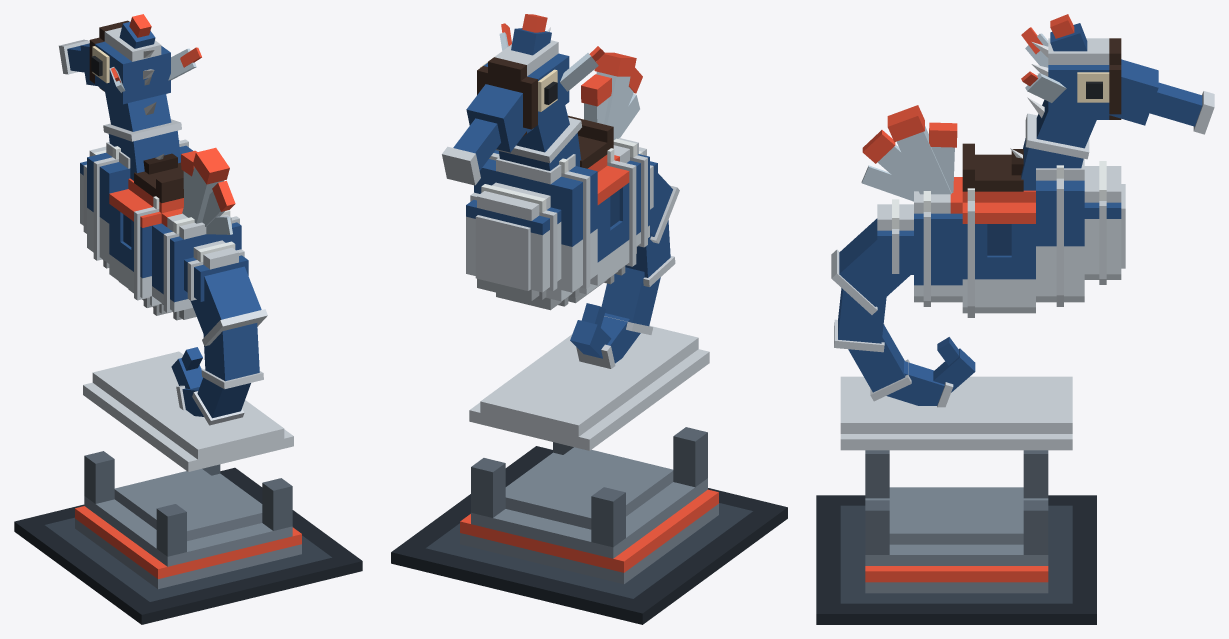
The model's file is SeahorseTrainer6.obj.
3 renders of one model, left to right at view 1: azimuth 30°, elevation 25°; view 2: azimuth 150°, elevation 25°; view 3: azimuth 270°, elevation 25°, orthographic. The views are drawn at different scales.
Parts seen in each view (by area): view 1: Stand, Body, Plate, Head, Fin, T1, T2, T3, T5, T4; view 2: Stand, Body, Plate, Head, Fin, T3, T4, T2, T1, T5; view 3: Stand, Body, Plate, Head, Fin, T1, T2, T3, T4, T5.
Boxes of the visible parts, x1,y1,x2,y2 form: Stand: (14, 451, 362, 624); Body: (80, 76, 248, 320); Plate: (83, 351, 293, 471); Head: (59, 14, 201, 104); Fin: (181, 147, 235, 234); T1: (190, 266, 267, 346); T2: (201, 323, 263, 389); T3: (192, 377, 250, 425); T5: (171, 358, 202, 388); T4: (176, 385, 203, 416); Stand: (391, 427, 787, 624); Body: (466, 105, 657, 310); Plate: (469, 325, 709, 450); Head: (442, 14, 604, 185); Fin: (581, 52, 642, 139); T3: (601, 267, 660, 334); T4: (576, 313, 640, 368); T2: (625, 220, 675, 287); T1: (650, 173, 679, 243); T5: (570, 320, 611, 358); Stand: (816, 450, 1096, 624); Body: (877, 73, 1125, 317); Plate: (840, 376, 1072, 450); Head: (1021, 14, 1214, 134); Fin: (861, 105, 957, 201); T1: (831, 218, 913, 314); T2: (834, 288, 886, 352); T3: (848, 324, 911, 401); T4: (886, 361, 953, 407); T5: (933, 348, 975, 392).
Bounding box in the file's own units: 9.2 × 19.85 × 13.06.
Materials: 1 (1 with a texture image).
